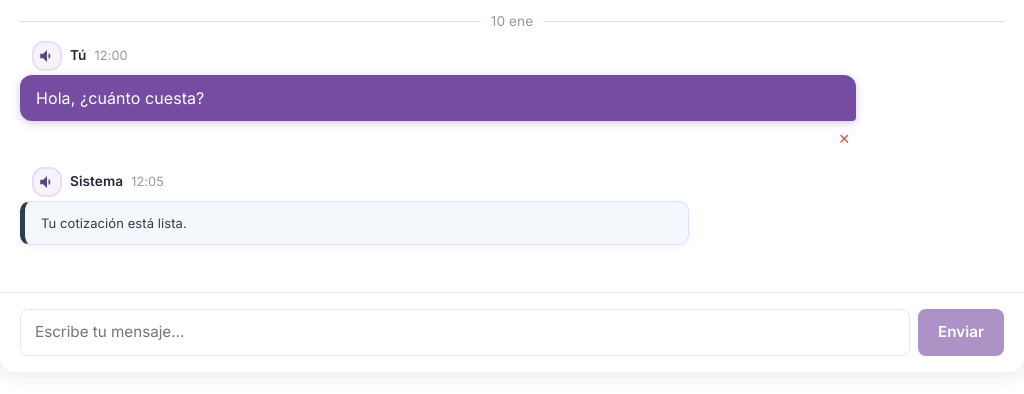
Test case: Chat TTS (HU-35) › elimina mensajes cuando el usuario confirma
Expected: the text "Hola, ¿cuánto cuesta?" is shown, [20, 75, 856, 121]
What coordinates should you click on to do the following:
click the button "✕"
I would click on:
 (844, 139)
Its box is [832, 125, 856, 152].
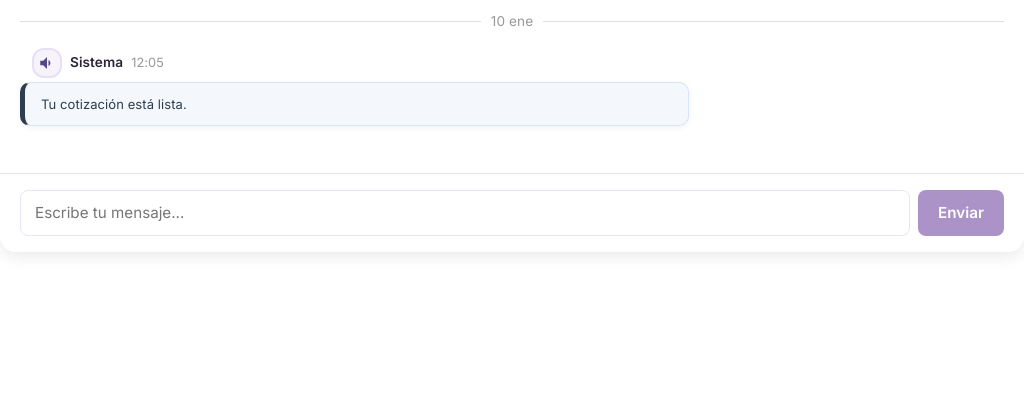
Result: the text "Hola, ¿cuánto cuesta?" is gone
